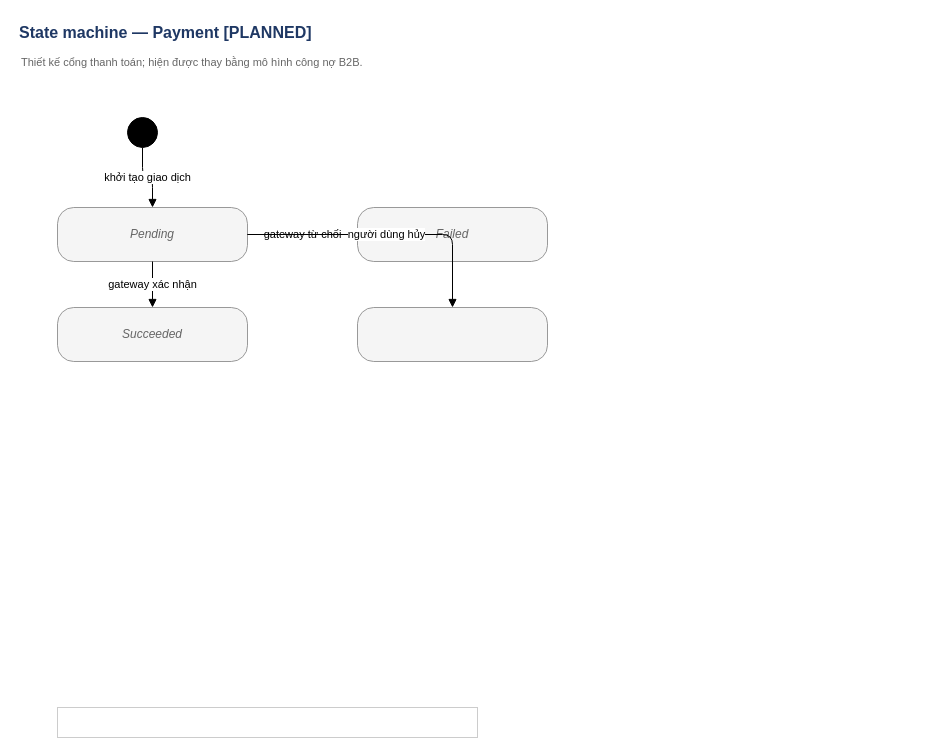
Image size: 934x755. Some labels were removed from this diagram. Here are the shapes that lost their labels. From the top down, the centre of each, then its label:
At [452,334]: "Cancelled".
At [267,722]: "Khối xám (chữ nghiêng) = [PLANNED] (chưa implement)".
